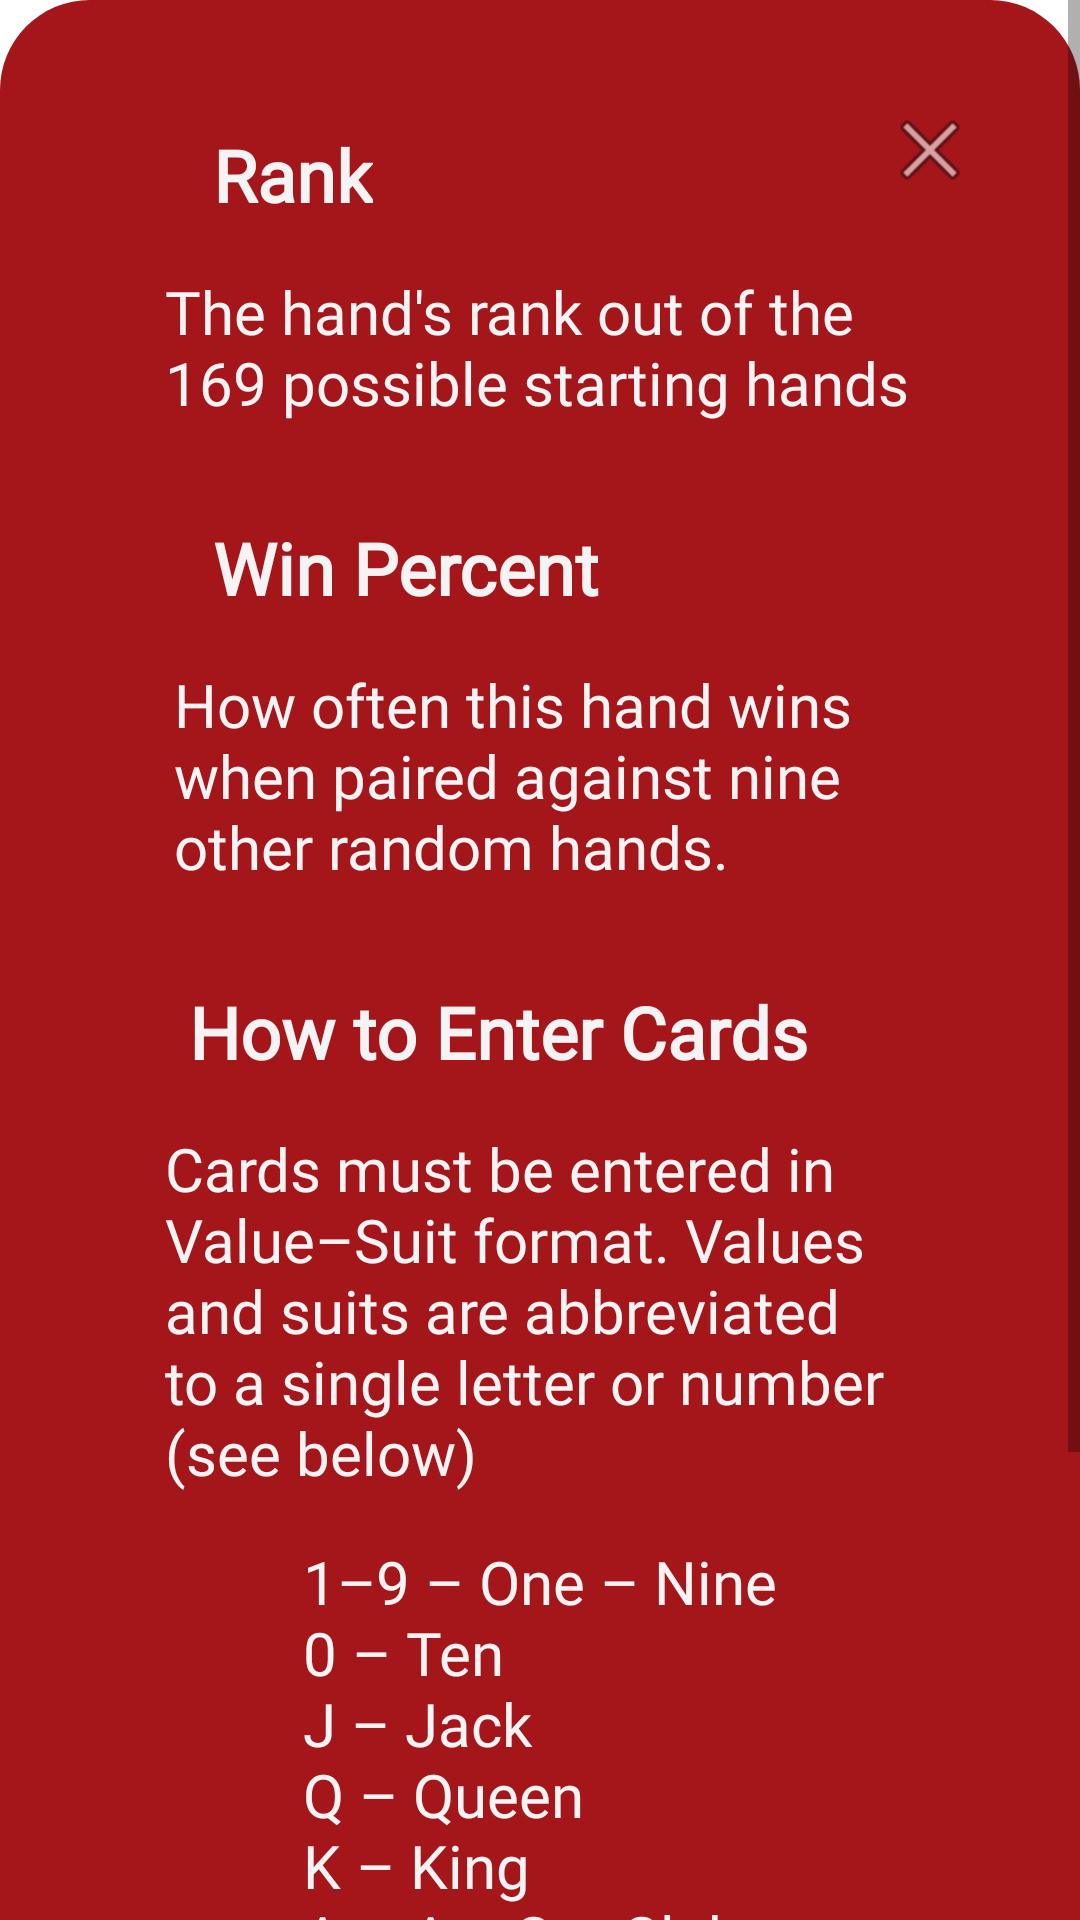

Locate icon controls on the screen. Image size 1080*1920, boxes as BBox(x1, y1, x2, y2).
Press to Close: BBox(900, 120, 960, 180)
